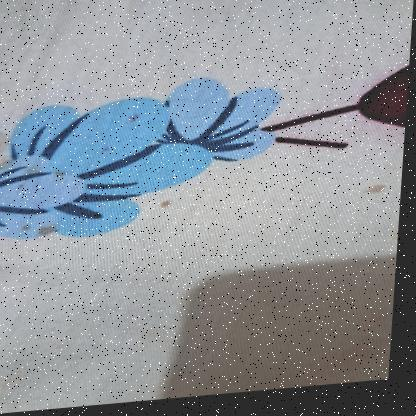spot: (0, 127, 22, 173), (25, 165, 53, 179), (362, 191, 393, 203), (40, 224, 63, 238), (125, 115, 146, 126), (19, 223, 40, 232), (99, 146, 115, 157), (54, 171, 72, 180), (162, 203, 177, 212), (17, 183, 32, 190)
